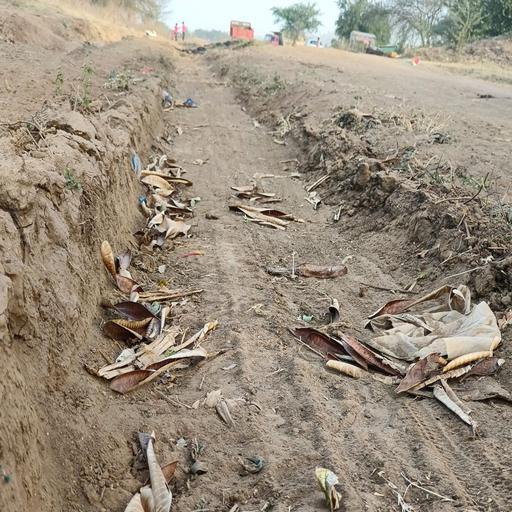vehicle_track: (180, 54, 512, 512)
